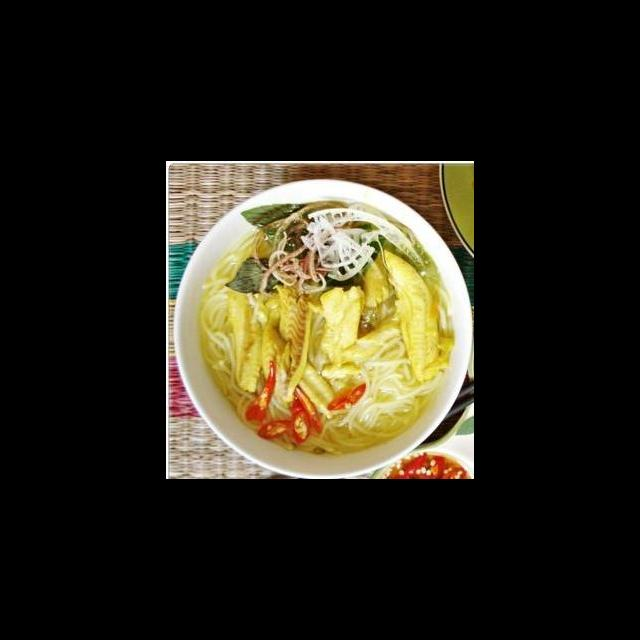bun: (330, 323, 421, 455), (195, 250, 236, 390)
ca: (382, 248, 447, 381), (261, 289, 315, 410), (319, 285, 363, 363)
